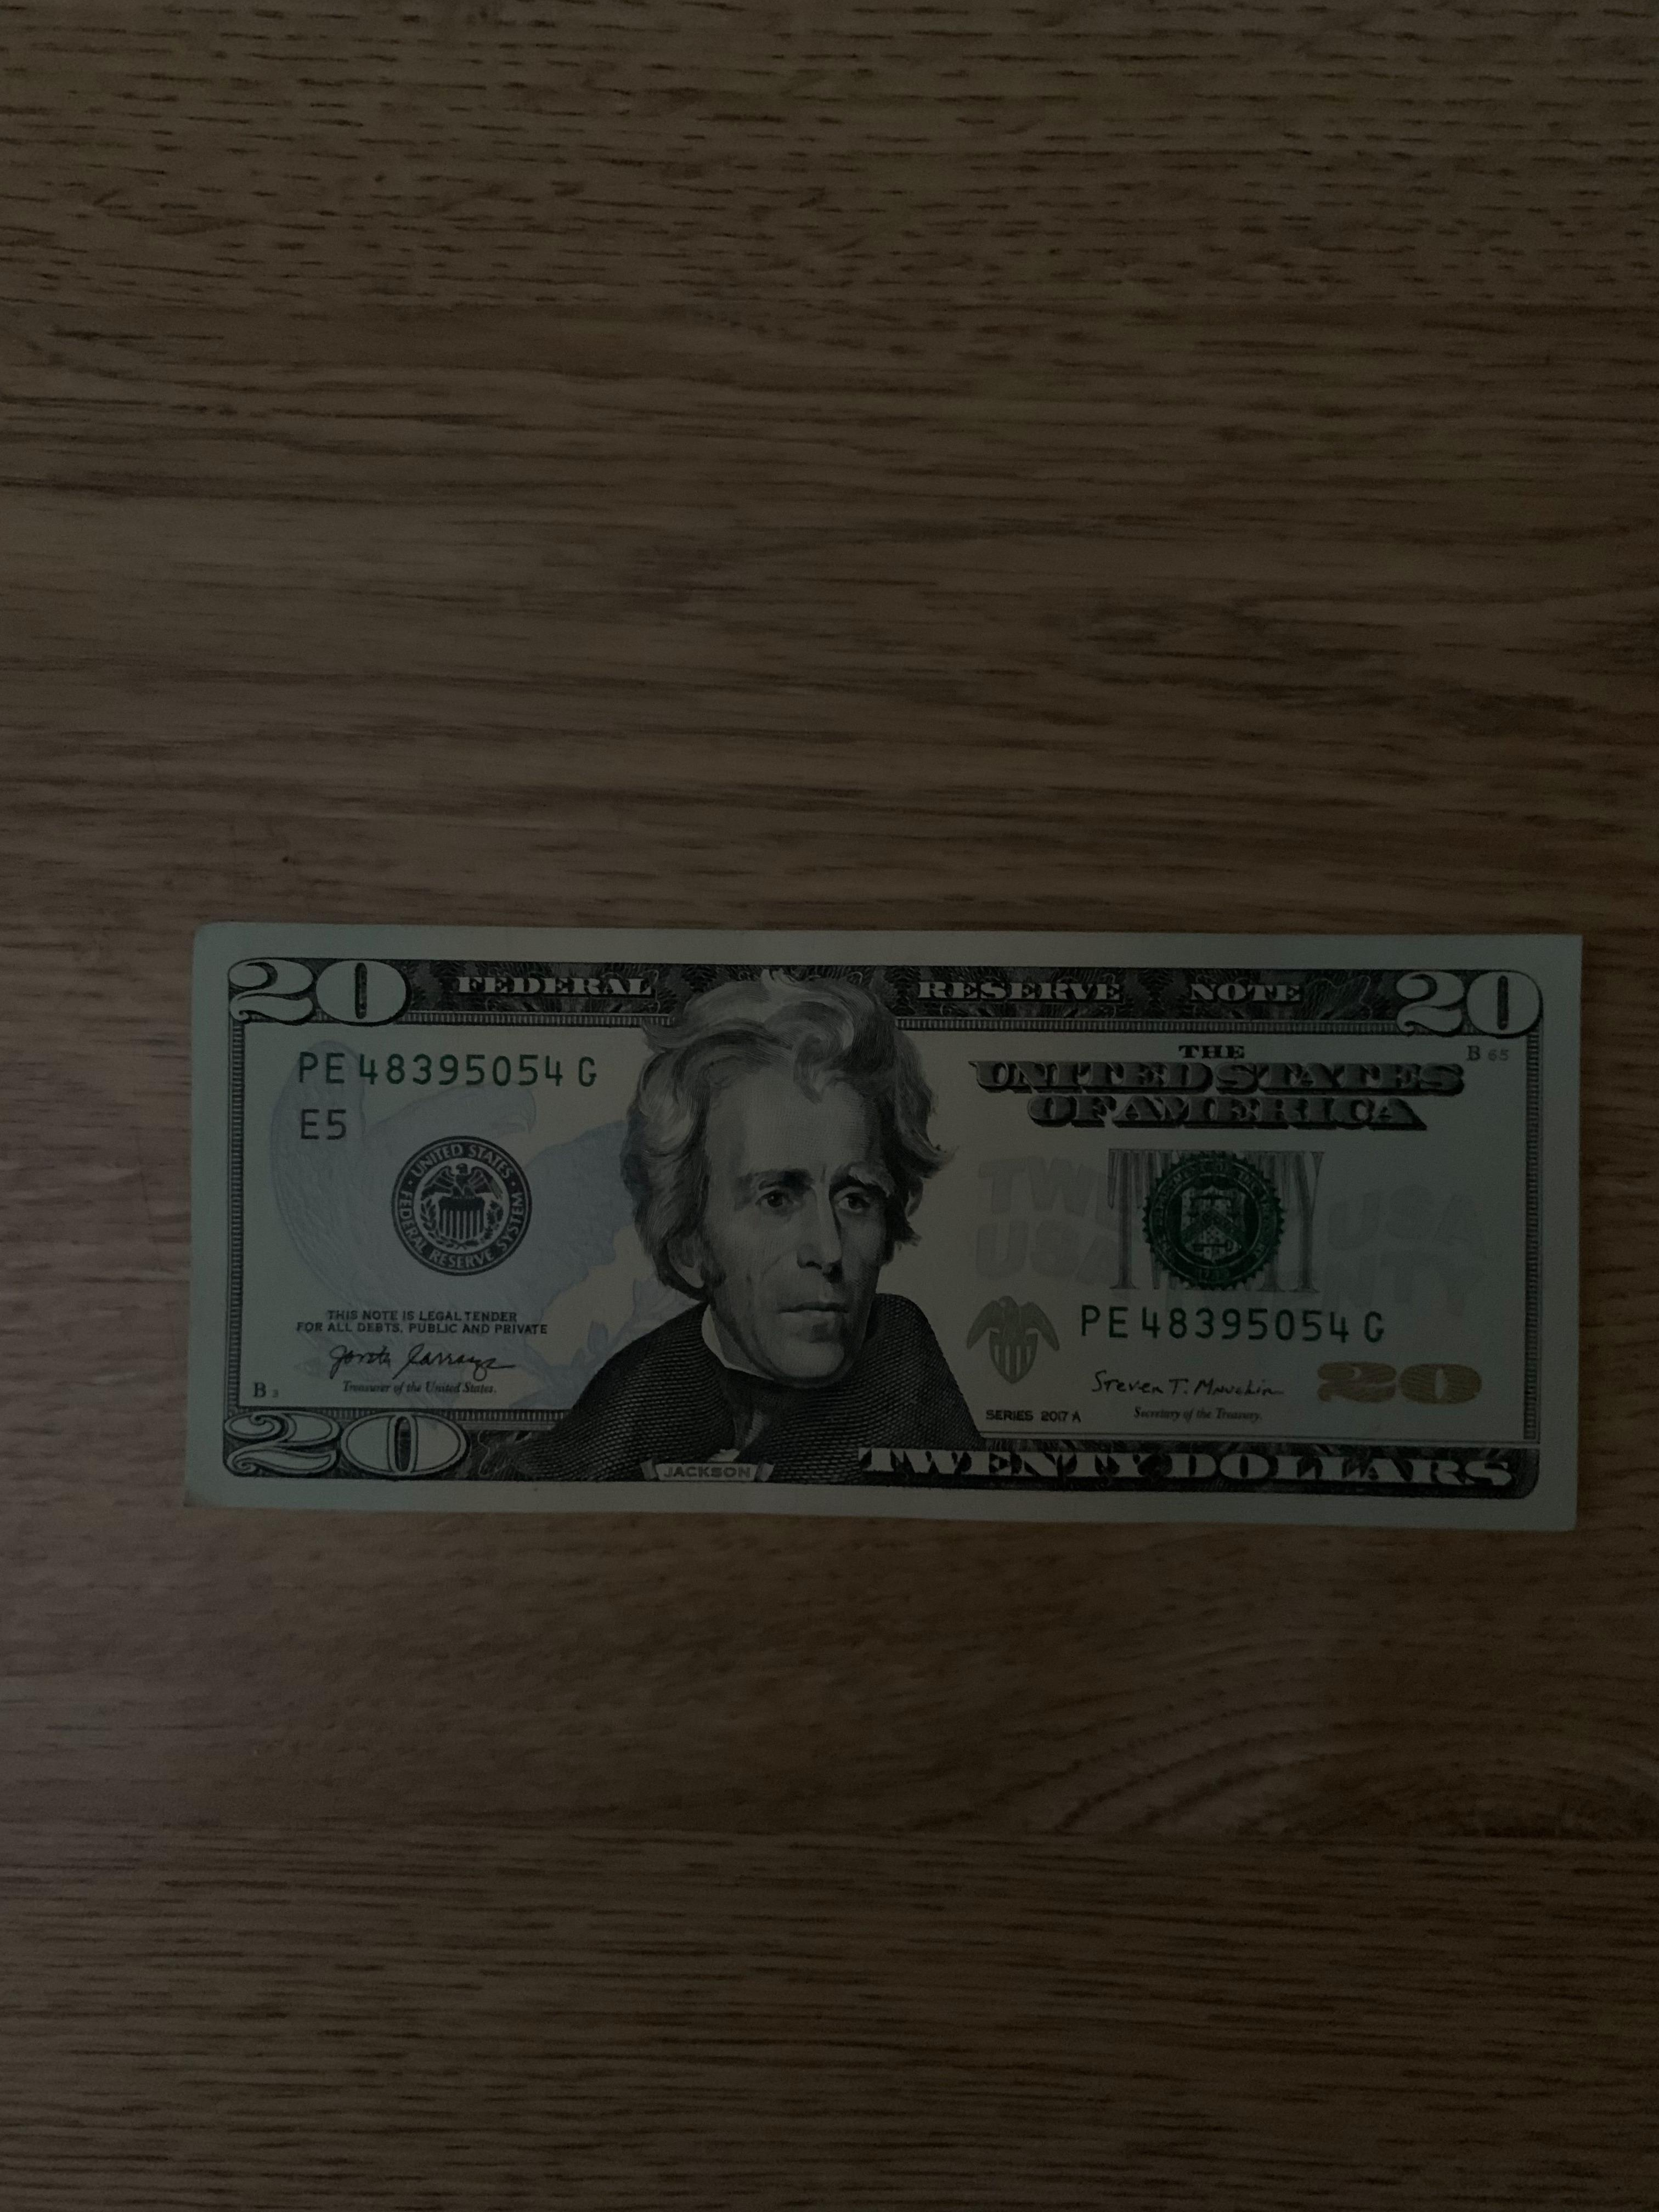TwentyBill: (164, 900, 1595, 1524)
